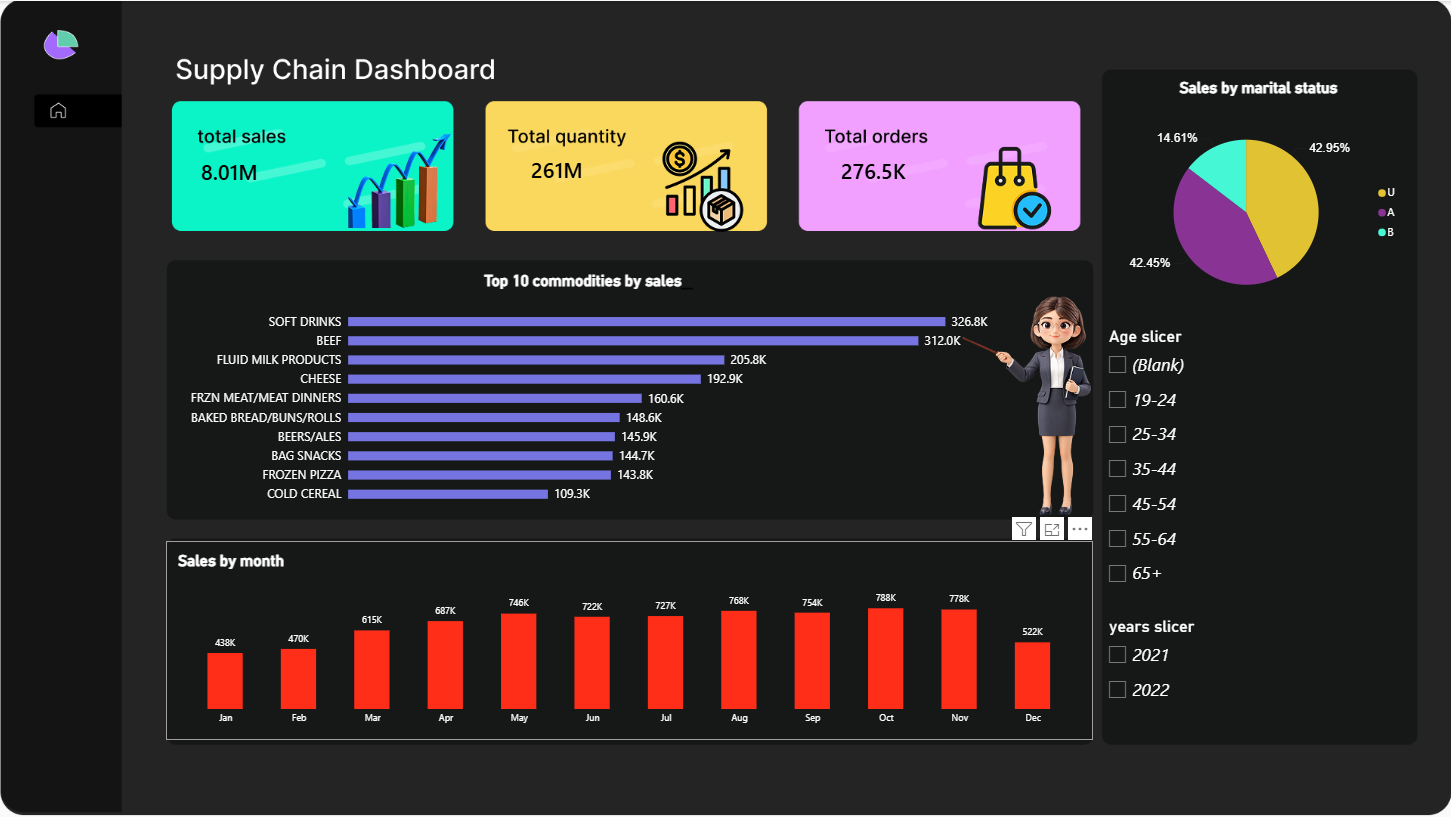

The page's visual inventory and layout, read from the dashboard file:
{"tool":"powerbi","page":{"name":"Page 2","canvas":[1920,1080],"ordinal":1},"visuals":[{"type":"cardVisual","fields":{"Data":["alo.Total Sales"]},"box":[90.7,122.9,83.3,38.7],"z":0},{"type":"cardVisual","fields":{"Data":["Sum(Dim_order_line.QUANTITY)"]},"box":[686.4,186,148.8,73.8],"z":1000},{"type":"cardVisual","fields":{"Data":["Count(Dim_order.ORDER_ID)"]},"box":[1097.1,188.3,152.5,73.8],"z":2000},{"type":"pieChart","title":"Sales by marital status","fields":{"Category":["Dim_demographic.MARITAL_STATUS_CODE"],"Y":["CountNonNull(Dim_demographic.INCOME_CATEGORY_DESC)"]},"box":[1458.9,89.2,411.7,341.7],"z":3000},{"type":"barChart","title":"Top 10 commodities by sales","fields":{"Category":["Dim_product.COMMODITY_DESC"],"Y":["Sum(Dim_order_line.SALES_VALUE)"]},"box":[219.7,344,1103.6,341.4],"z":4000},{"type":"columnChart","title":"Sales by month","fields":{"Category":["DimDate.Month"],"Y":["Sum(Dim_order_line.SALES_VALUE)"]},"box":[219.7,714.5,1226.6,263.3],"z":5000},{"type":"slicer","fields":{"Values":["DimDate.Year"]},"box":[1459.5,815.1,411.7,163.3],"z":6000},{"type":"slicer","fields":{"Values":["Dim_demographic.AGE_DESC"]},"box":[1458.9,430.9,398.3,363.3],"z":7000},{"type":"cardVisual","fields":{"Data":["alo.Total Sales"]},"box":[249.4,169.3,190,111.7],"z":8000}]}

Visuals, with their boxes on the page's 1920x1080 design canvas (x1, y1, x2, y2). These are canvas units, not pixel positions in the 1451x817 screenshot, which may show the page scaled, cropped or inside an application window:
cardVisual - alo.Total Sales: Rect(91, 123, 174, 162)
cardVisual - Sum(Dim_order_line.QUANTITY): Rect(686, 186, 835, 260)
cardVisual - Count(Dim_order.ORDER_ID): Rect(1097, 188, 1250, 262)
"Sales by marital status" pieChart: Rect(1459, 89, 1871, 431)
"Top 10 commodities by sales" barChart: Rect(220, 344, 1323, 685)
"Sales by month" columnChart: Rect(220, 714, 1446, 978)
slicer - DimDate.Year: Rect(1460, 815, 1871, 978)
slicer - Dim_demographic.AGE_DESC: Rect(1459, 431, 1857, 794)
cardVisual - alo.Total Sales: Rect(249, 169, 439, 281)
